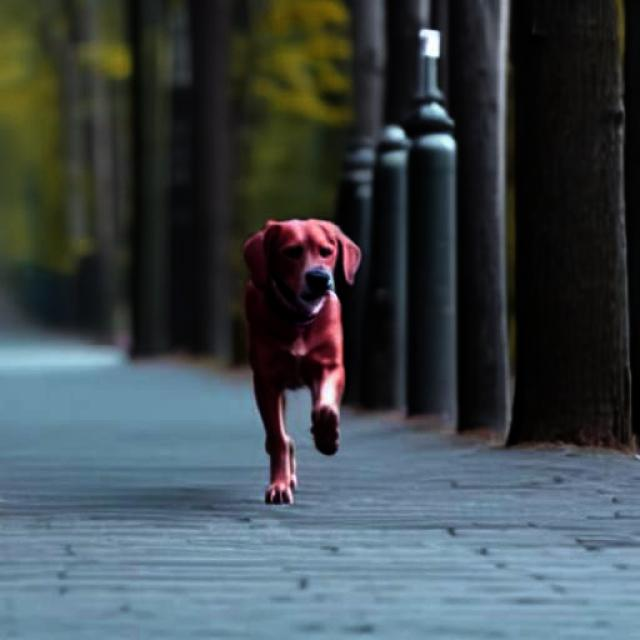Dog: (242, 218, 362, 506)
